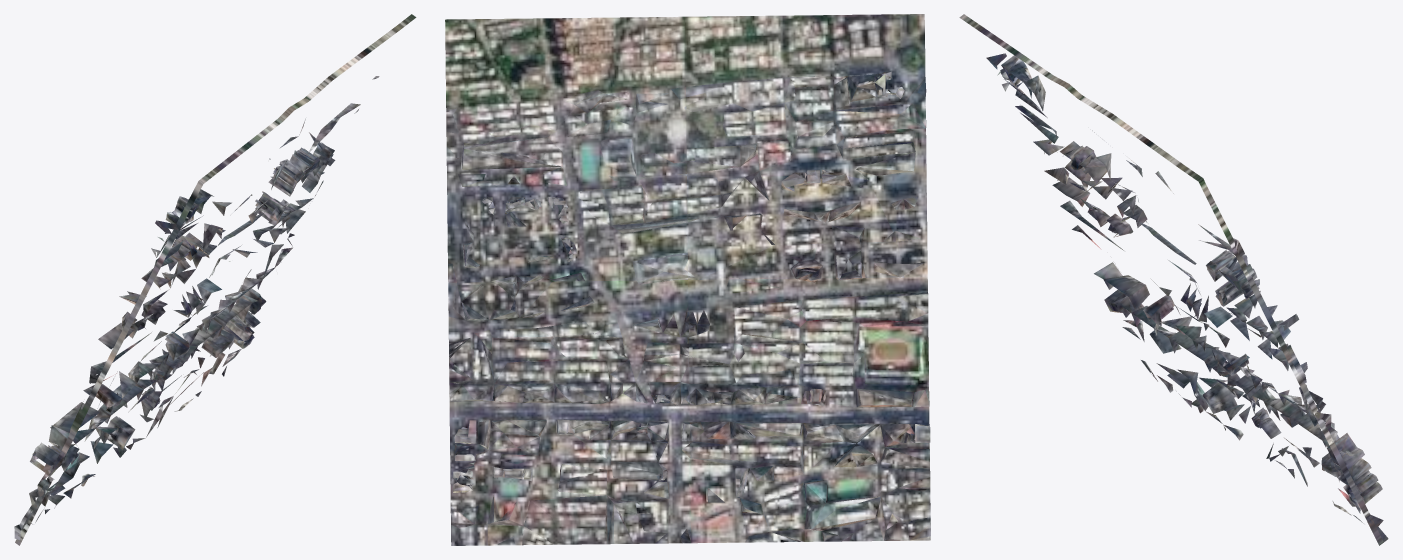
3 views of the same model, side by side, from view 1: azimuth 30°, elevation 25°; view 2: azimuth 150°, elevation 25°; view 3: azimuth 270°, elevation 25° (orthographic). The views are drawn at different scales.
Size of the model in its own units: 1223 by 1111 by 1044.
2 materials, 2 textured.
